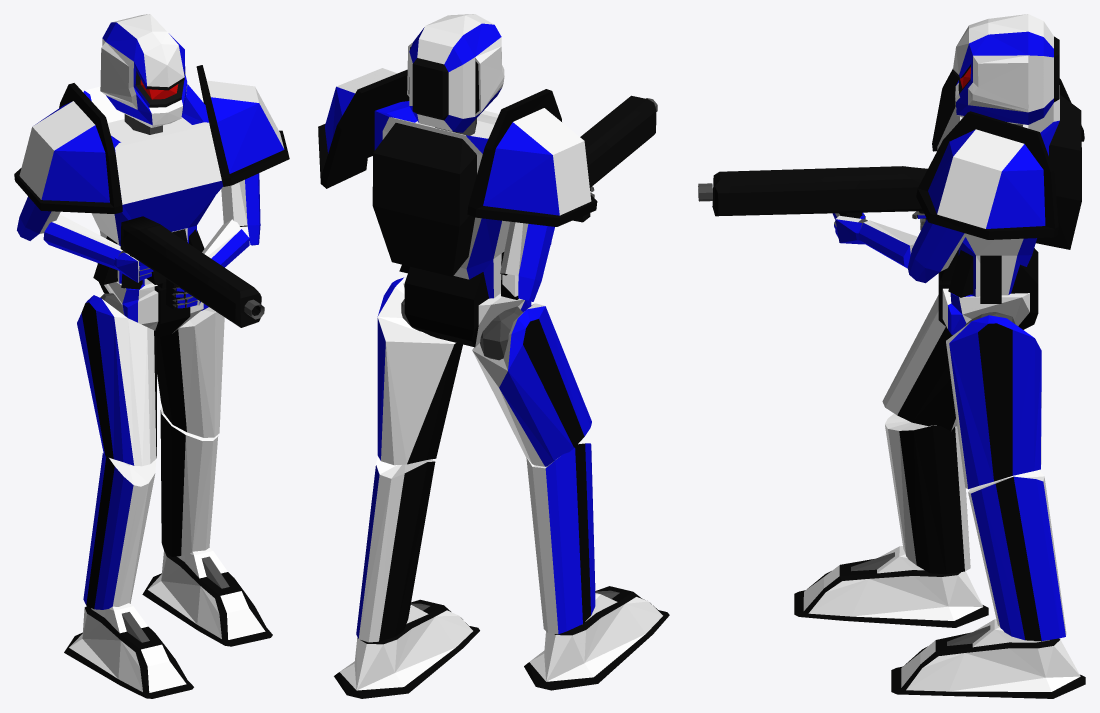
The model's file is robots_000007.obj.
The picture shows the model from 3 angles, left to right: view 1: azimuth 30°, elevation 25°; view 2: azimuth 150°, elevation 25°; view 3: azimuth 270°, elevation 25°; orthographic projection. The views are drawn at different scales.
Visible parts, largest first — view 1: Chest_plate_Cube.004, R_Thigh_Cube.005, Cube.002_Cube.059, Head_base_Cube.022, R_Shin_Cube.007, R_Foot.002_Cube.035, R_Foot_Cube, R_Thigh.002_Cube.027, Cube_Cube.001, R_Shin.002_Cube.029, Cube_Cube.021, Pelvis_Cube.006 (+5 smaller); view 2: Chest_plate_Cube.004, Cube.002_Cube.059, R_Thigh.002_Cube.027, R_Thigh_Cube.005, R_Shin_Cube.007, R_Shin.002_Cube.029, Head_base_Cube.022, R_Foot_Cube, R_Foot.002_Cube.035, Cube_Cube.021, Pelvis_Cube.006, Cube_Cube.001 (+2 smaller); view 3: Cube_Cube.021, R_Thigh.002_Cube.027, R_Shin.002_Cube.029, R_Foot.002_Cube.035, R_Shin_Cube.007, R_Foot_Cube, Head_base_Cube.022, Cube_Cube.001, Chest_plate_Cube.004, R_Thigh_Cube.005, Pelvis_Cube.006, L_Arm_Cube.014 (+3 smaller).
Boxes of the visible parts, left/top/right/bottom form: Chest_plate_Cube.004: left=83, top=84, right=223, bottom=289; R_Thigh_Cube.005: left=77, top=295, right=156, bottom=466; Cube.002_Cube.059: left=14, top=83, right=122, bottom=213; Head_base_Cube.022: left=100, top=14, right=187, bottom=127; R_Shin_Cube.007: left=83, top=453, right=156, bottom=609; R_Foot.002_Cube.035: left=142, top=548, right=272, bottom=646; R_Foot_Cube: left=64, top=603, right=193, bottom=698; R_Thigh.002_Cube.027: left=157, top=307, right=224, bottom=437; Cube_Cube.001: left=120, top=216, right=264, bottom=327; R_Shin.002_Cube.029: left=160, top=408, right=218, bottom=556; Cube_Cube.021: left=196, top=65, right=289, bottom=186; Pelvis_Cube.006: left=97, top=263, right=208, bottom=337; Chest_plate_Cube.004: left=372, top=101, right=518, bottom=299; Cube.002_Cube.059: left=467, top=89, right=597, bottom=226; R_Thigh.002_Cube.027: left=377, top=277, right=462, bottom=465; R_Thigh_Cube.005: left=472, top=303, right=591, bottom=466; R_Shin_Cube.007: left=526, top=443, right=595, bottom=634; R_Shin.002_Cube.029: left=356, top=456, right=435, bottom=642; Head_base_Cube.022: left=407, top=14, right=504, bottom=132; R_Foot_Cube: left=524, top=586, right=669, bottom=690; R_Foot.002_Cube.035: left=334, top=599, right=479, bottom=698; Cube_Cube.021: left=318, top=68, right=409, bottom=188; Pelvis_Cube.006: left=403, top=266, right=531, bottom=347; Cube_Cube.001: left=573, top=95, right=657, bottom=222; Cube_Cube.021: left=916, top=111, right=1058, bottom=239; R_Thigh.002_Cube.027: left=946, top=315, right=1041, bottom=489; R_Shin.002_Cube.029: left=968, top=470, right=1066, bottom=641; R_Foot.002_Cube.035: left=891, top=619, right=1085, bottom=698; R_Shin_Cube.007: left=885, top=413, right=970, bottom=574; R_Foot_Cube: left=794, top=546, right=988, bottom=627; Head_base_Cube.022: left=953, top=14, right=1059, bottom=124; Cube_Cube.001: left=698, top=166, right=927, bottom=220; Chest_plate_Cube.004: left=937, top=85, right=1081, bottom=303; R_Thigh_Cube.005: left=882, top=295, right=956, bottom=430; Pelvis_Cube.006: left=938, top=248, right=1038, bottom=334; L_Arm_Cube.014: left=907, top=219, right=966, bottom=283.
Size of the model in its own units: 1.32 by 3.03 by 1.69.
